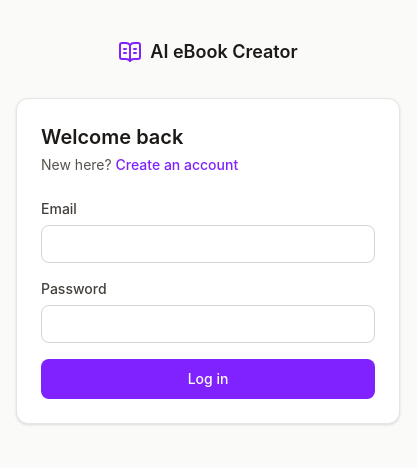
Test case: LoginPage › shows the server's message when login fails
Type "a@example.com" into the field labelled "Email" at {"x": 208, "y": 244}, box [41,225,375,263]
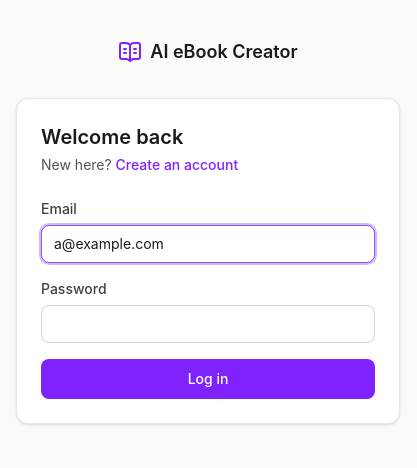
Type "wrong password" into the password field labelled "Password" at {"x": 208, "y": 324}, box [41,305,375,343]
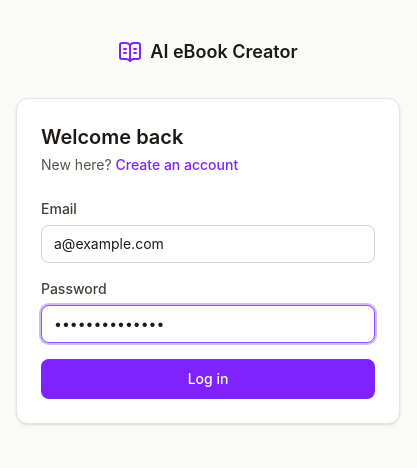
Click the button "Log in" at {"x": 208, "y": 379}, box [41,359,375,399]
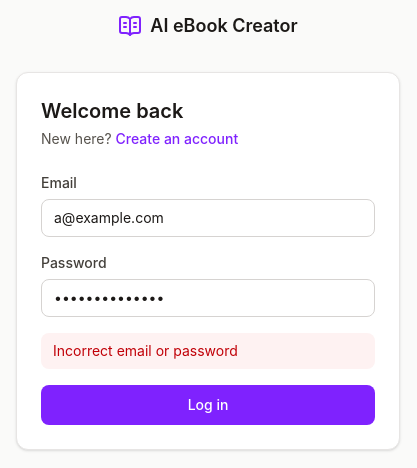
Now the message reads "Incorrect email or password", box [53,342,238,359]
